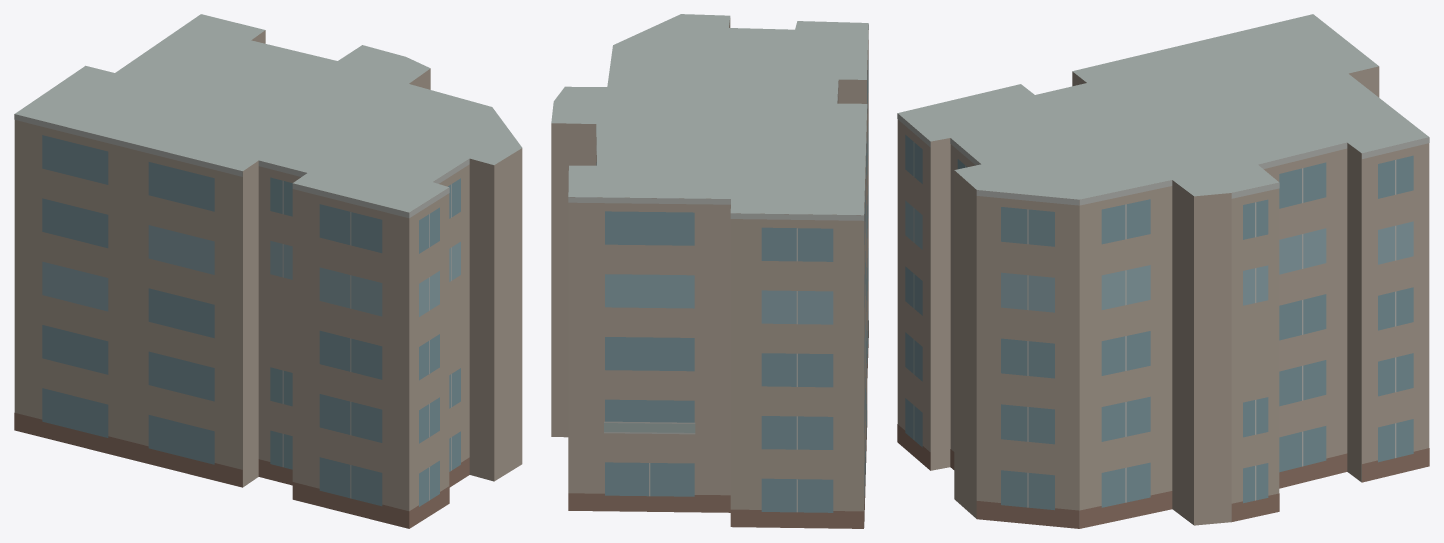
Rendered from survey-upis-32589183.glb.
The picture shows the model from 3 angles, left to right: view 1: azimuth 30°, elevation 25°; view 2: azimuth 150°, elevation 25°; view 3: azimuth 270°, elevation 25°; orthographic projection. The views are drawn at different scales.
Visible parts, largest first — view 1: survey-upis-32589183.tmp; view 2: survey-upis-32589183.tmp; view 3: survey-upis-32589183.tmp.
Part boxes in pixels (x1,y1,x2,y2): survey-upis-32589183.tmp: (14, 14, 522, 528); survey-upis-32589183.tmp: (551, 14, 868, 528); survey-upis-32589183.tmp: (897, 14, 1429, 528).
Bounding box in the file's own units: 16.34 × 13.5 × 19.78.
